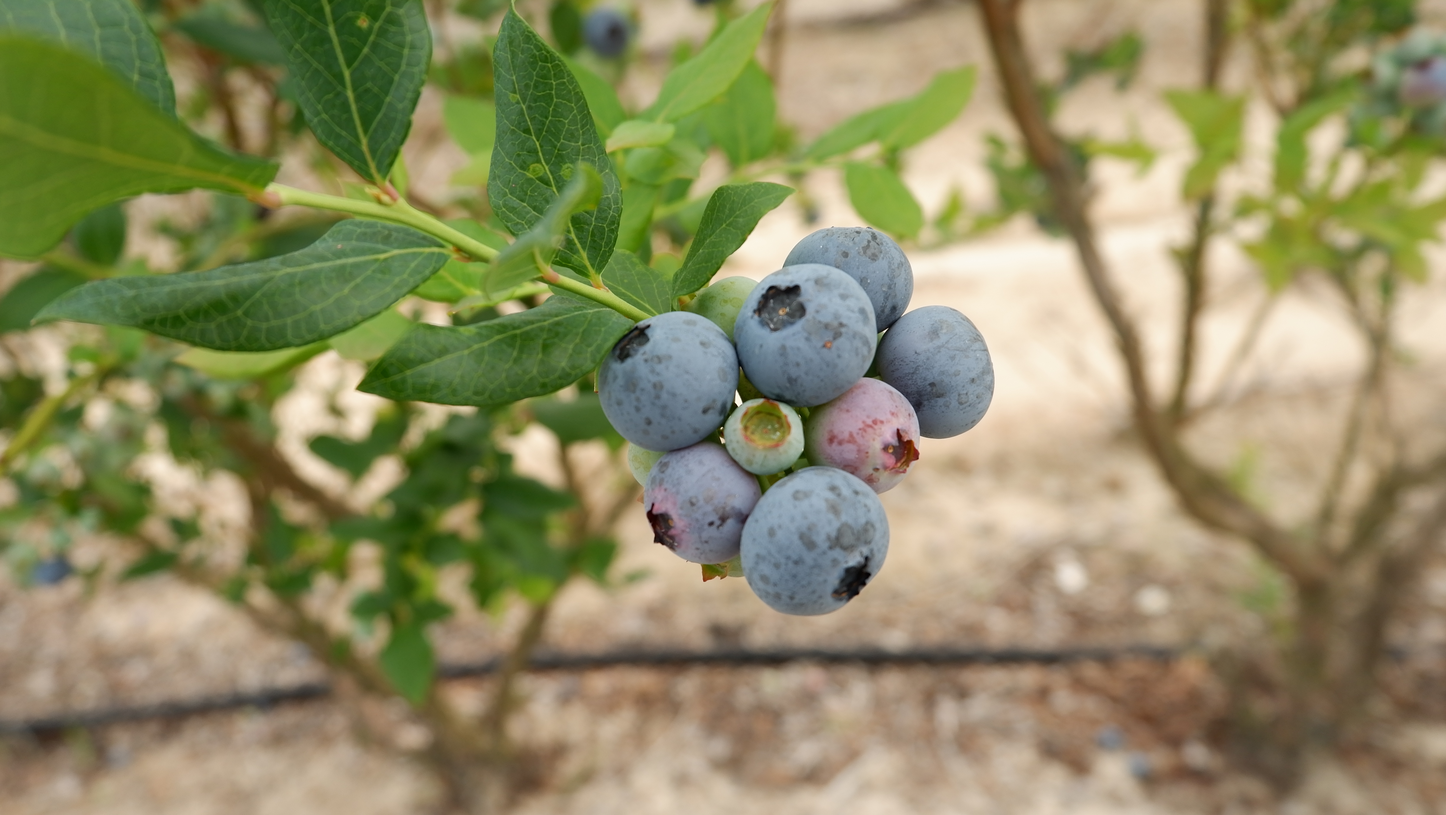Immature: (805, 377, 923, 496), (722, 398, 805, 475), (684, 276, 760, 348), (628, 443, 674, 489), (701, 554, 745, 583)
Mature: (740, 465, 891, 617), (733, 264, 879, 407), (597, 309, 740, 450), (874, 305, 995, 439), (642, 440, 762, 564), (783, 227, 914, 333)
